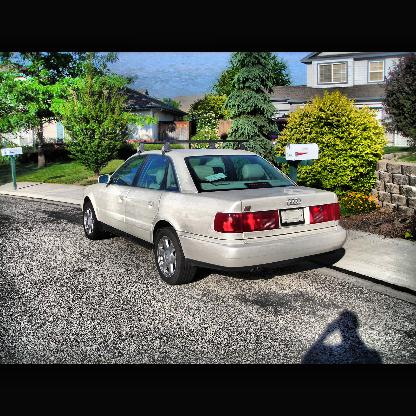Audi 100 Sedan 1994: (82, 148, 347, 286)
